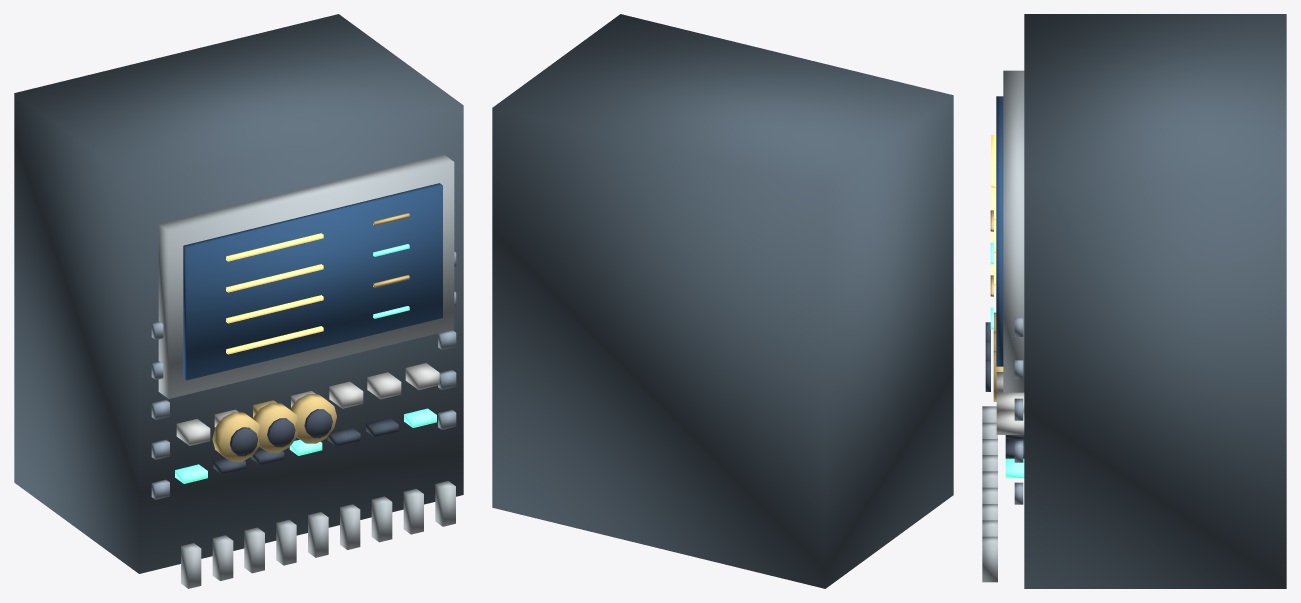
File: 52_L84_ExternalDisturbanceTorqueInjector.glb
3 renders of one model, left to right at view 1: azimuth 30°, elevation 25°; view 2: azimuth 150°, elevation 25°; view 3: azimuth 270°, elevation 25°, orthographic. The views are drawn at different scales.
Visible parts, largest first — view 1: L84_ExternalDisturbanceTorque_Part_0000, L84_ExternalDisturbanceTorque_Part_0002, L84_ExternalDisturbanceTorque_Part_0001, L84_ExternalDisturbanceTorque_Part_0006, L84_ExternalDisturbanceTorque_Part_0003, L84_ExternalDisturbanceTorque_Part_0008, L84_ExternalDisturbanceTorque_Part_0005, L84_ExternalDisturbanceTorque_Part_0007, L84_ExternalDisturbanceTorque_Part_0009, L84_ExternalDisturbanceTorque_Part_0013, L84_ExternalDisturbanceTorque_Part_0011, L84_ExternalDisturbanceTorque_Part_0010 (+2 smaller); view 2: L84_ExternalDisturbanceTorque_Part_0000; view 3: L84_ExternalDisturbanceTorque_Part_0000, L84_ExternalDisturbanceTorque_Part_0001, L84_ExternalDisturbanceTorque_Part_0002, L84_ExternalDisturbanceTorque_Part_0006, L84_ExternalDisturbanceTorque_Part_0008, L84_ExternalDisturbanceTorque_Part_0003, L84_ExternalDisturbanceTorque_Part_0005.
Part boxes in pixels (left/top/right/bottom): L84_ExternalDisturbanceTorque_Part_0000: left=14, top=14, right=463, bottom=573; L84_ExternalDisturbanceTorque_Part_0002: left=183, top=183, right=442, bottom=380; L84_ExternalDisturbanceTorque_Part_0001: left=158, top=154, right=455, bottom=588; L84_ExternalDisturbanceTorque_Part_0006: left=176, top=363, right=439, bottom=445; L84_ExternalDisturbanceTorque_Part_0003: left=226, top=233, right=323, bottom=354; L84_ExternalDisturbanceTorque_Part_0008: left=151, top=251, right=456, bottom=499; L84_ExternalDisturbanceTorque_Part_0005: left=175, top=244, right=436, bottom=483; L84_ExternalDisturbanceTorque_Part_0007: left=213, top=418, right=398, bottom=474; L84_ExternalDisturbanceTorque_Part_0009: left=212, top=412, right=260, bottom=461; L84_ExternalDisturbanceTorque_Part_0013: left=290, top=394, right=336, bottom=443; L84_ExternalDisturbanceTorque_Part_0011: left=252, top=403, right=298, bottom=452; L84_ExternalDisturbanceTorque_Part_0010: left=229, top=427, right=258, bottom=456; L84_ExternalDisturbanceTorque_Part_0000: left=492, top=14, right=953, bottom=588; L84_ExternalDisturbanceTorque_Part_0000: left=1024, top=14, right=1286, bottom=588; L84_ExternalDisturbanceTorque_Part_0001: left=982, top=70, right=1024, bottom=582; L84_ExternalDisturbanceTorque_Part_0002: left=996, top=96, right=1003, bottom=366; L84_ExternalDisturbanceTorque_Part_0006: left=996, top=372, right=1024, bottom=434; L84_ExternalDisturbanceTorque_Part_0008: left=1014, top=318, right=1023, bottom=504; L84_ExternalDisturbanceTorque_Part_0003: left=991, top=135, right=995, bottom=285; L84_ExternalDisturbanceTorque_Part_0005: left=990, top=242, right=1024, bottom=478.
Bounding box in the file's own units: 0.9996 × 1.17 × 0.7732.
